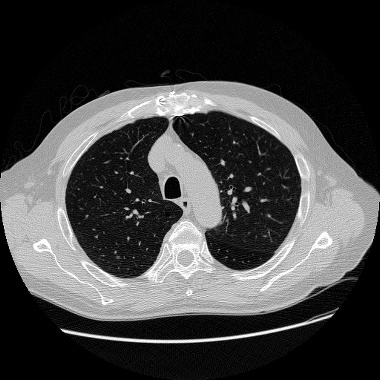PN: (116, 255, 120, 259)
